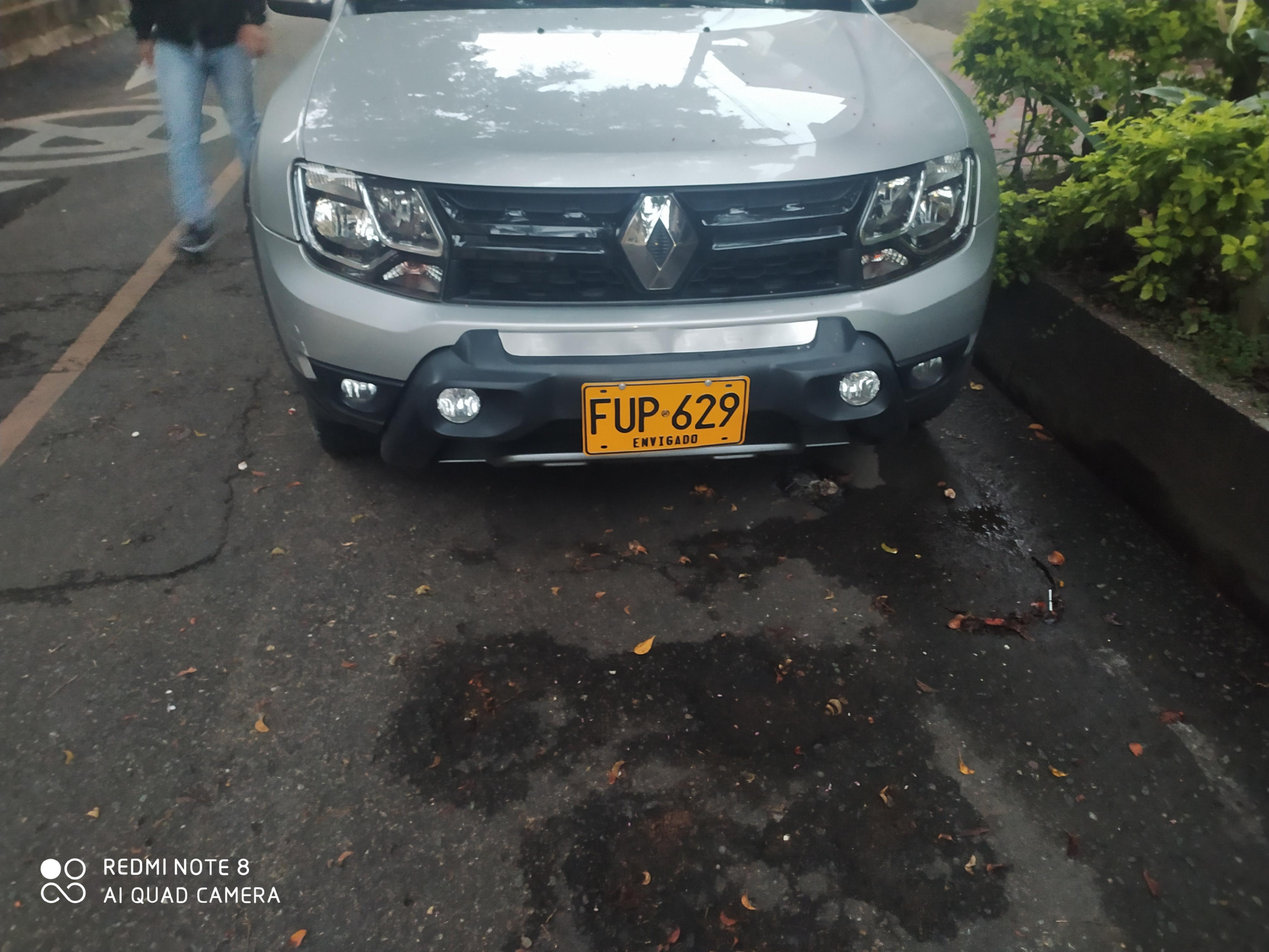placa: (572, 373, 751, 460)
